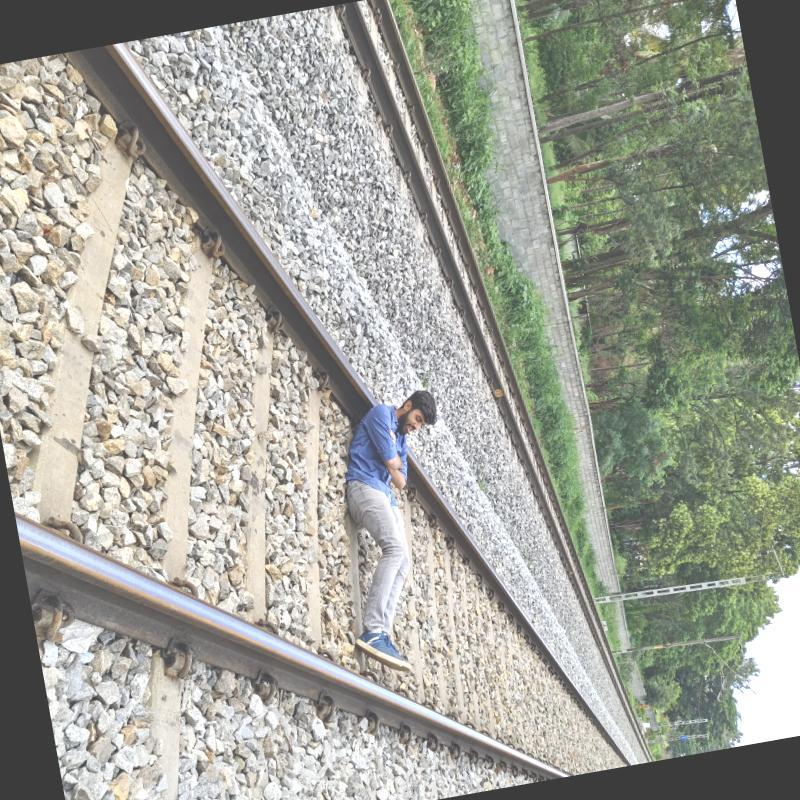sleeping: (307, 378, 487, 700)
